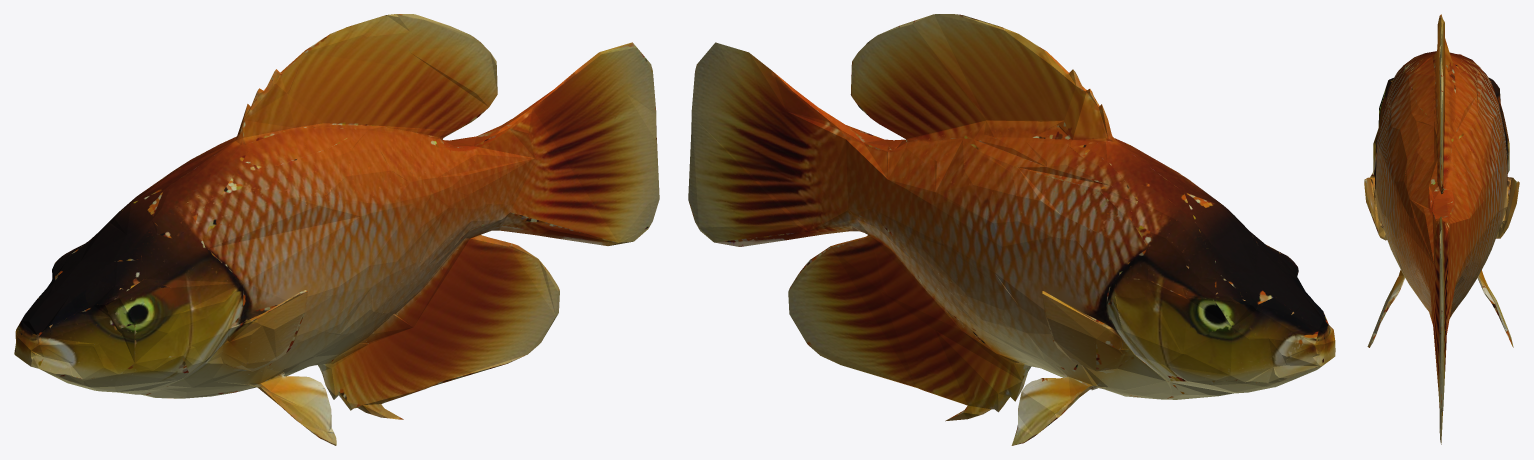
Rendered from fish_0022_smpl23_resized.glb.
3 views of the same model, side by side, from view 1: azimuth 30°, elevation 25°; view 2: azimuth 150°, elevation 25°; view 3: azimuth 270°, elevation 25° (orthographic). The views are drawn at different scales.
Visible parts, largest first — view 1: world; view 2: world; view 3: world.
Boxes of the visible parts, x1,y1,x2,y2 form: world: (14,14,659,445); world: (688,14,1335,445); world: (1364,14,1519,444).
Bounding box in the file's own units: 1.98 × 1.21 × 0.4551.
Materials: 1 (1 with a texture image).
